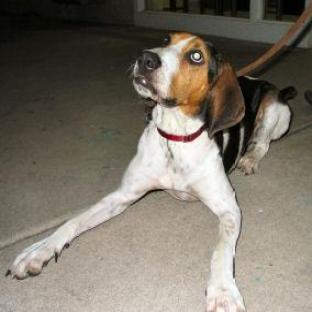Animal: (5, 32, 296, 310)
